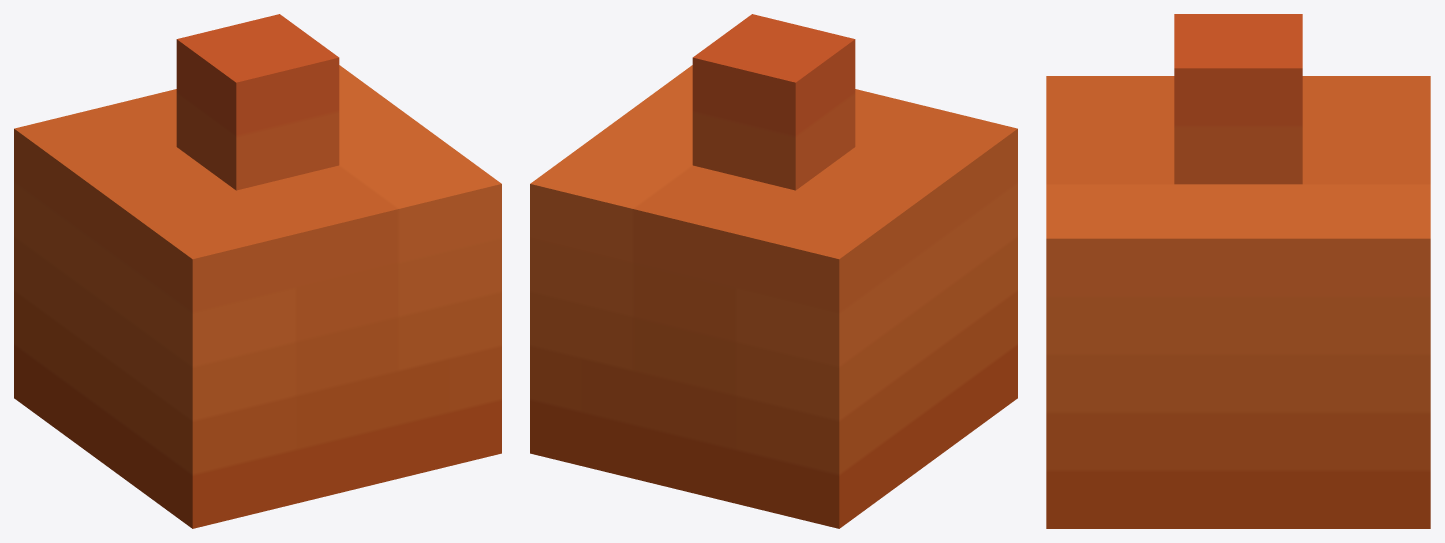
The model's file is Hip035.fbx.
3 renders of one model, left to right at view 1: azimuth 30°, elevation 25°; view 2: azimuth 150°, elevation 25°; view 3: azimuth 270°, elevation 25°, orthographic. The views are drawn at different scales.
Visible parts, largest first — view 1: Hip035; view 2: Hip035; view 3: Hip035.
Boxes of the visible parts, x1,y1,x2,y2 form: Hip035: (14,14,501,528); Hip035: (530,14,1017,528); Hip035: (1046,14,1430,528).
Bounding box in the file's own units: 6 × 7 × 6.
